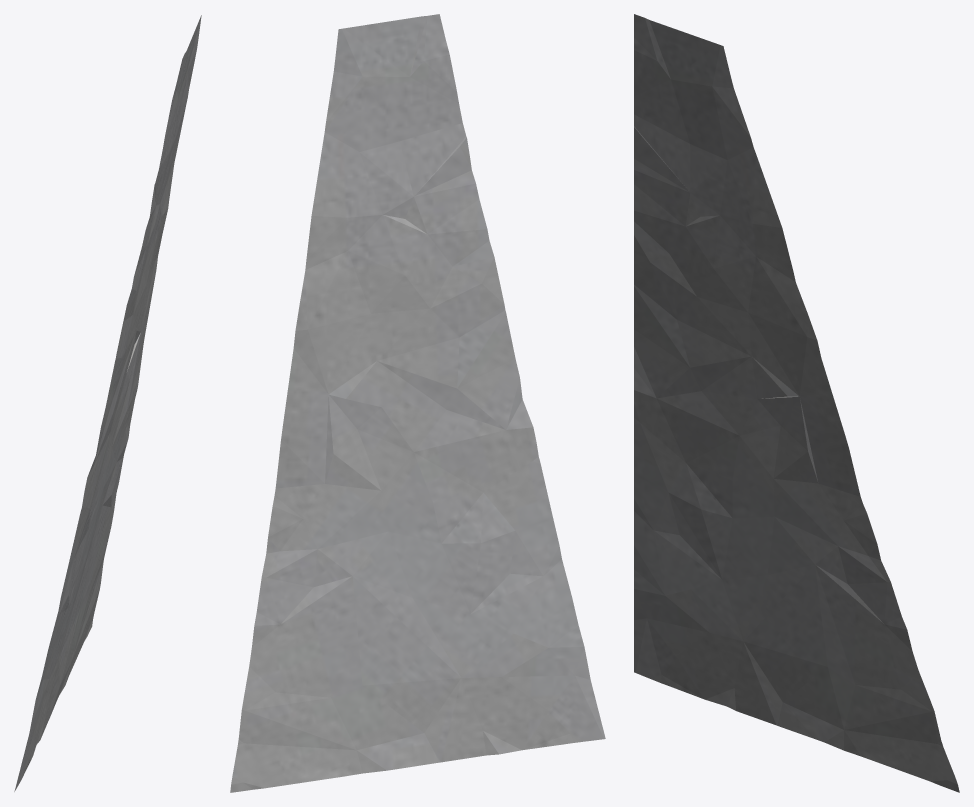
3 renders of one model, left to right at view 1: azimuth 30°, elevation 25°; view 2: azimuth 150°, elevation 25°; view 3: azimuth 270°, elevation 25°, orthographic. The views are drawn at different scales.
Bounding box in the file's own units: 0.2897 × 0.8373 × 0.3309.
1 material, 1 textured.
